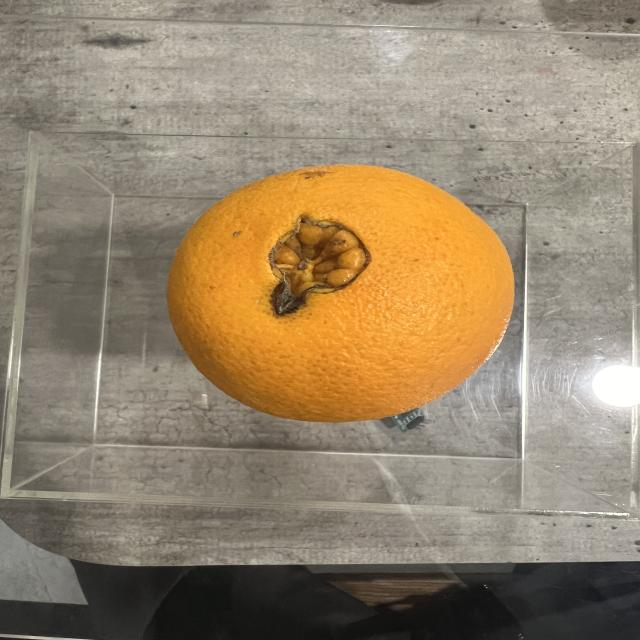navel orange: (174, 162, 517, 420)
